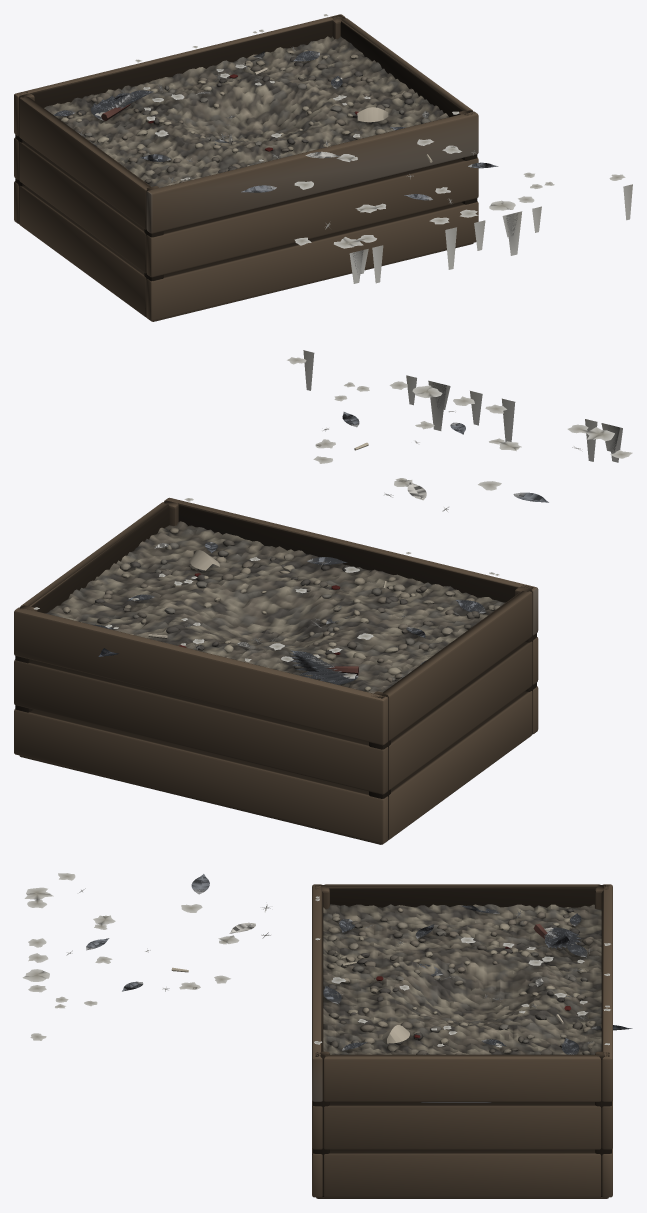
File: nest.glb
3 views of the same model, one above another, from view 1: azimuth 30°, elevation 25°; view 2: azimuth 150°, elevation 25°; view 3: azimuth 270°, elevation 25° (orthographic). The views are drawn at different scales.
Parts seen in each view (by area): view 1: nest_props; view 2: nest_props; view 3: nest_props.
Boxes of the visible parts, x1,y1,x2,y2 form: nest_props: (14,14,632,321); nest_props: (14,350,632,844); nest_props: (22,873,632,1198).
Size of the model in its own units: 1.16 by 0.5685 by 1.65.
